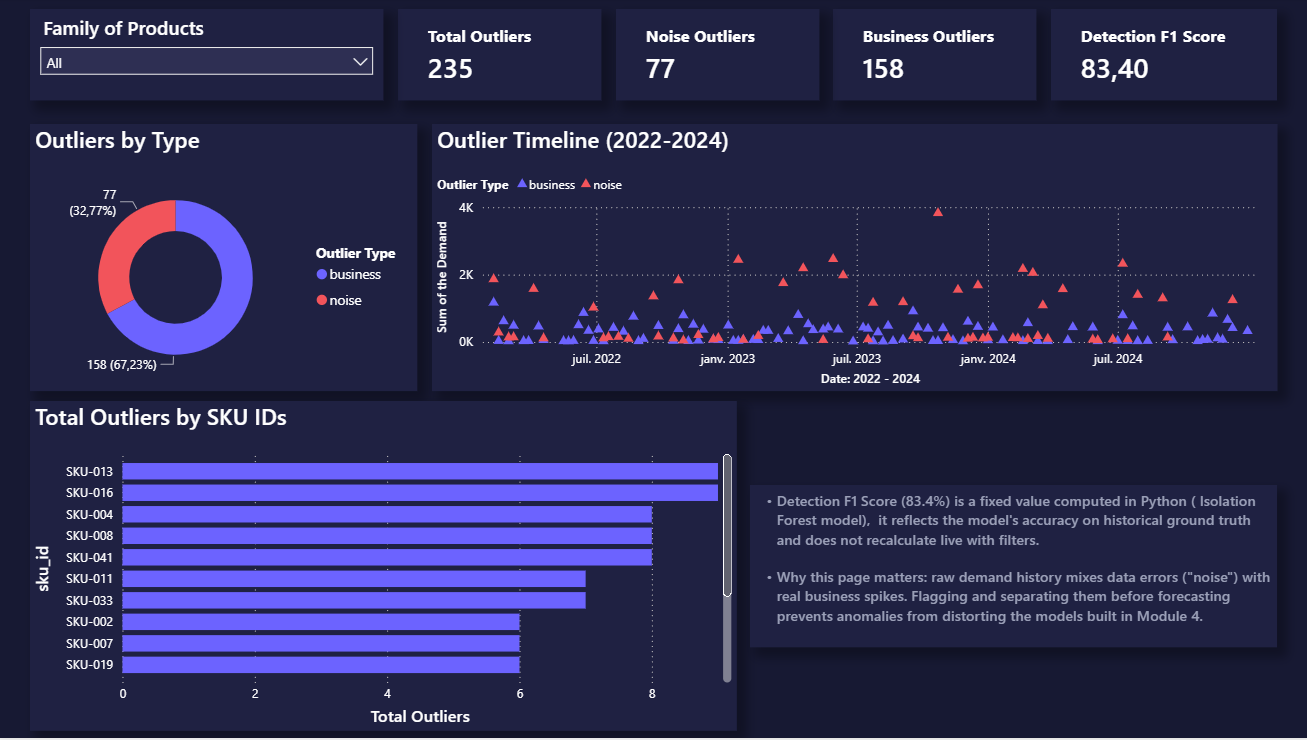

The dashboard page shown, as its layout file describes it:
{"tool":"powerbi","page":{"name":"Outliers","canvas":[1280,720],"ordinal":2},"visuals":[{"type":"cardVisual","fields":{"Data":["outlier_detection.Business Outliers"]},"box":[815.1,10.7,198.4,89.5],"z":0},{"type":"cardVisual","fields":{"Data":["outlier_detection.Detection F1 Score"]},"box":[1027.1,10.7,219.8,89.5],"z":1000},{"type":"cardVisual","fields":{"Data":["outlier_detection.Total Outliers"]},"box":[391,10.7,198.4,89.5],"z":2000},{"type":"cardVisual","fields":{"Data":["outlier_detection.Noise Outliers"]},"box":[603,10.7,198.4,89.5],"z":3000},{"type":"donutChart","title":"Outliers by Type","fields":{"Category":["outlier_detection.outlier_type"],"Y":["CountNonNull(outlier_detection.sku_id)"]},"box":[33.1,122.6,377.4,259.7],"z":4000},{"type":"lineChart","title":"Outlier Timeline (2022-2024)","fields":{"Y":["Sum(outlier_detection.actual_demand)"],"Series":["outlier_detection.outlier_type"],"Category":["outlier_detection.week"]},"box":[424.1,122.6,822.9,259.7],"z":4001},{"type":"clusteredBarChart","title":"Total Outliers by SKU IDs","fields":{"Category":["outlier_detection.sku_id"],"Y":["outlier_detection.Total Outliers"]},"box":[33.1,392,687.7,321],"z":4002},{"type":"slicer","fields":{"Values":["product_master.Family"]},"box":[33.1,10.7,344.3,89.5],"z":4003},{"type":"textbox","box":[734.3,473.7,512.6,157.6],"z":4004}]}

Visuals, with their boxes in screenshot pixels (x1, y1, x2, y2), scaled from the page's 1280x720 canvas onto the 1307x740 screenshot:
cardVisual - outlier_detection.Business Outliers: pyautogui.locateOnScreen(832, 11, 1035, 103)
cardVisual - outlier_detection.Detection F1 Score: pyautogui.locateOnScreen(1049, 11, 1273, 103)
cardVisual - outlier_detection.Total Outliers: pyautogui.locateOnScreen(399, 11, 602, 103)
cardVisual - outlier_detection.Noise Outliers: pyautogui.locateOnScreen(616, 11, 818, 103)
"Outliers by Type" donutChart: pyautogui.locateOnScreen(34, 126, 419, 393)
"Outlier Timeline (2022-2024)" lineChart: pyautogui.locateOnScreen(433, 126, 1273, 393)
"Total Outliers by SKU IDs" clusteredBarChart: pyautogui.locateOnScreen(34, 403, 736, 733)
slicer - product_master.Family: pyautogui.locateOnScreen(34, 11, 385, 103)
textbox: pyautogui.locateOnScreen(750, 487, 1273, 649)
